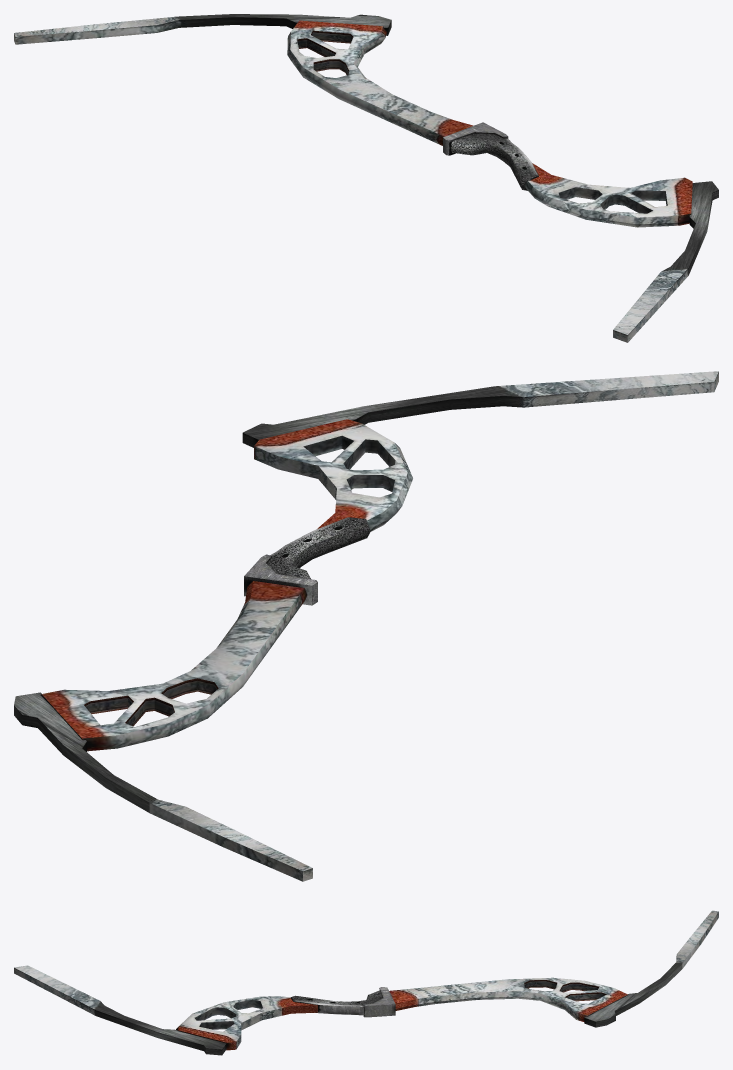
Rendered from bow_l_kakouen_bow_kakouen_bow1.glb.
3 views of the same model, one above another, from view 1: azimuth 30°, elevation 25°; view 2: azimuth 150°, elevation 25°; view 3: azimuth 270°, elevation 25° (orthographic). The views are drawn at different scales.
Bounding box in the file's own units: 0.8528 × 0.0326 × 1.83.
1 material, 1 textured.
